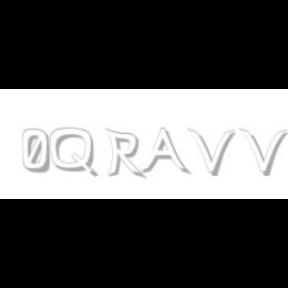0: (22, 128, 54, 174)
A: (140, 128, 188, 176)
Q: (50, 128, 96, 178)
R: (105, 128, 143, 180)
V: (188, 128, 236, 176), (240, 128, 288, 176)
